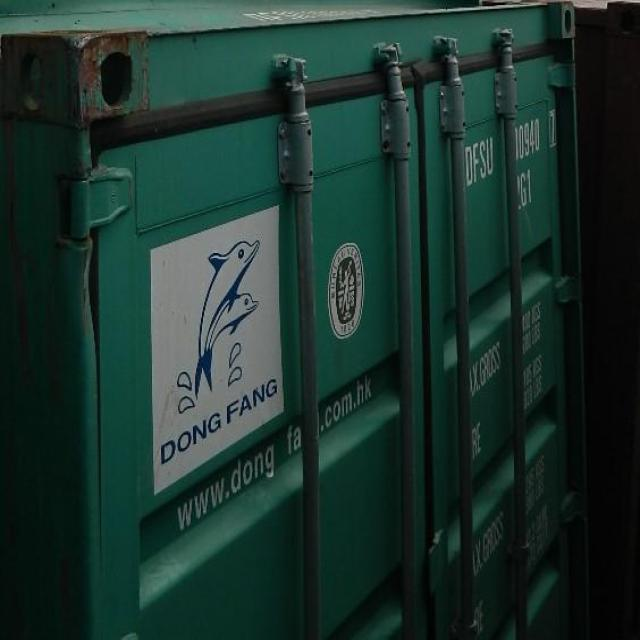dent: (43, 122, 104, 471)
